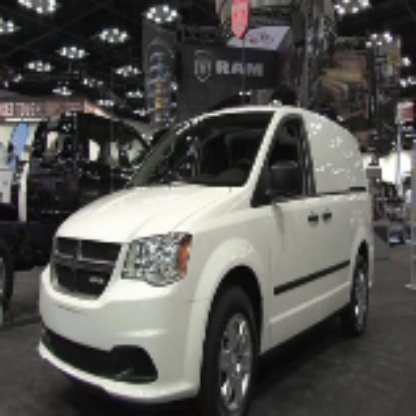Vehicle: (23, 105, 375, 411)
